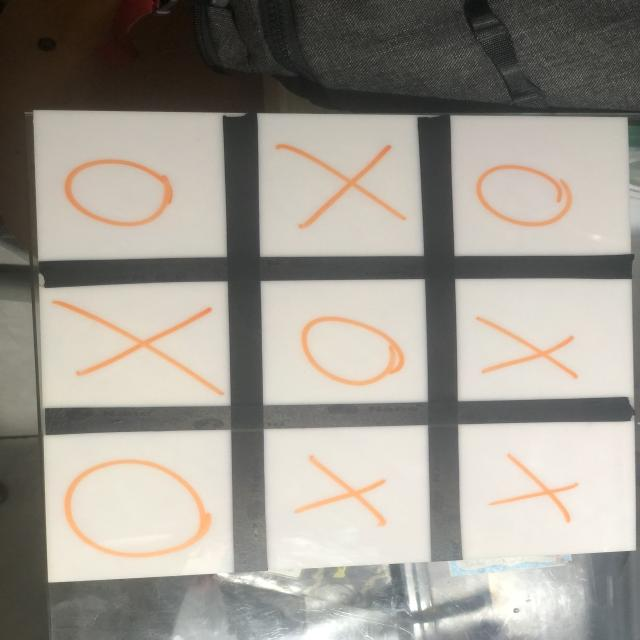o: (59, 455, 217, 564), (59, 151, 185, 234), (292, 309, 412, 393), (476, 159, 573, 235)
table: (30, 102, 636, 584)
x: (47, 294, 223, 392), (275, 142, 410, 231), (481, 444, 583, 527), (290, 454, 399, 530), (474, 310, 581, 385)
